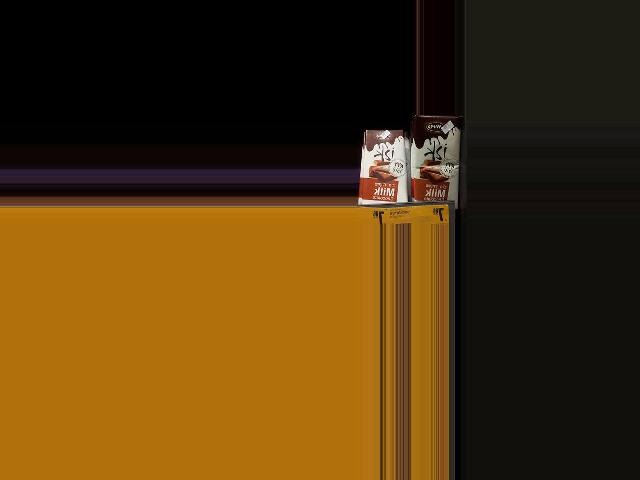chocolate: (354, 127, 407, 214)
